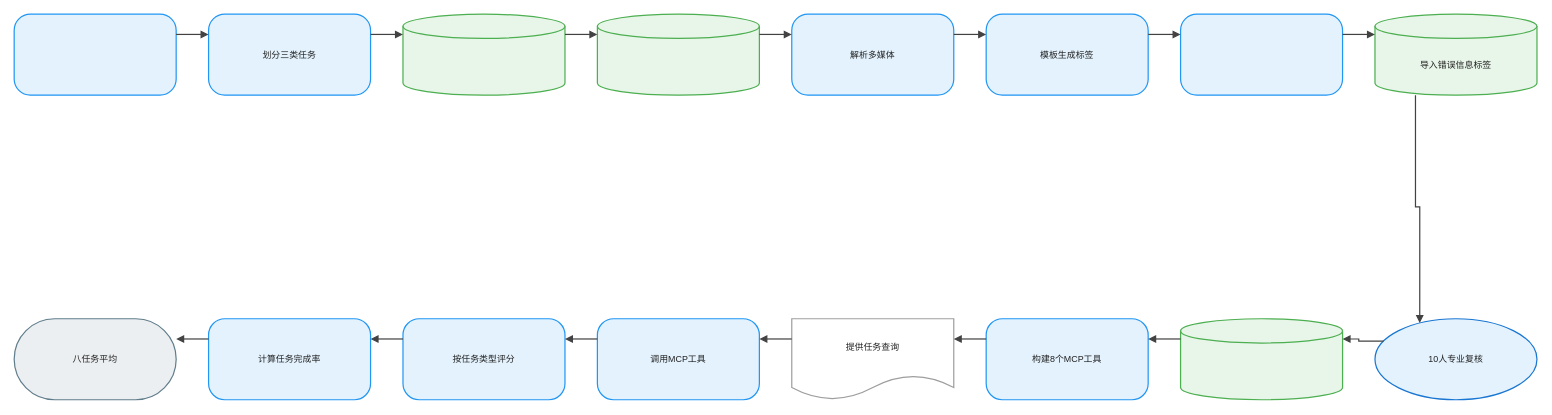
The diagram is 1552 pixels wide and 415 high, and some of its shapes have lost their labels. Each missing label, with the centre of its shape:
"人机标注真值" belongs at point (1261, 54).
"冻结17869查询" belongs at point (1261, 359).
"定义8项任务" belongs at point (94, 54).
"收集32个来源" belongs at point (483, 54).
"构建数据仓" belongs at point (678, 54).
